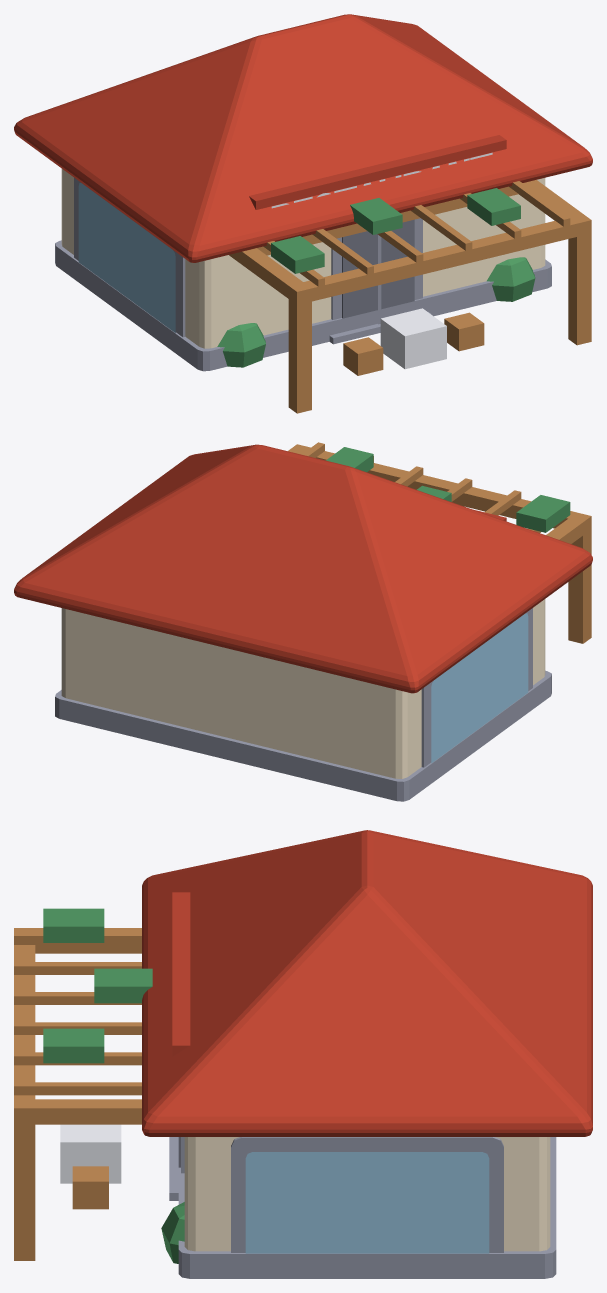
The model's file is restaurant-1x1-t1-tone-a.glb.
3 renders of one model, top to bottom at view 1: azimuth 30°, elevation 25°; view 2: azimuth 150°, elevation 25°; view 3: azimuth 270°, elevation 25°, orthographic. The views are drawn at different scales.
Parts seen in each view (by area): view 1: restaurant-1x1-t1-tone-a; view 2: restaurant-1x1-t1-tone-a; view 3: restaurant-1x1-t1-tone-a.
Boxes of the visible parts, x1,y1,x2,y2 form: restaurant-1x1-t1-tone-a: [14, 14, 592, 413]; restaurant-1x1-t1-tone-a: [14, 442, 592, 801]; restaurant-1x1-t1-tone-a: [14, 830, 592, 1278].
Bounding box in the file's own units: 0.96 × 0.565 × 0.95.
1 material, 1 textured.
